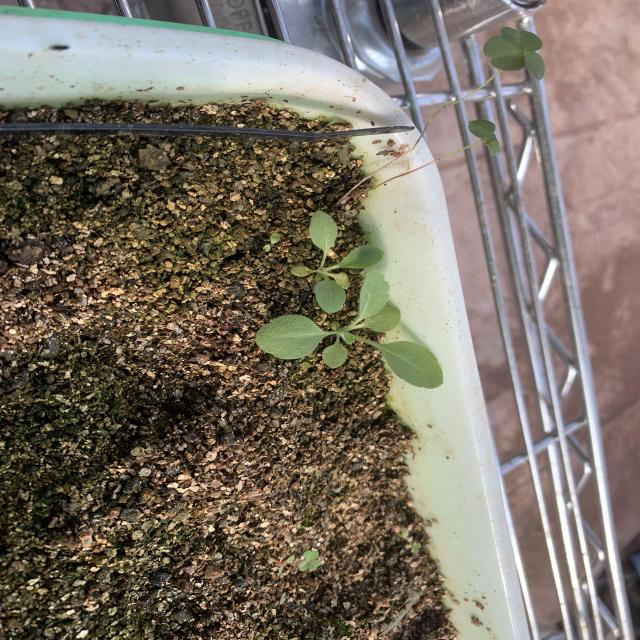horseweed: (244, 198, 406, 383)
